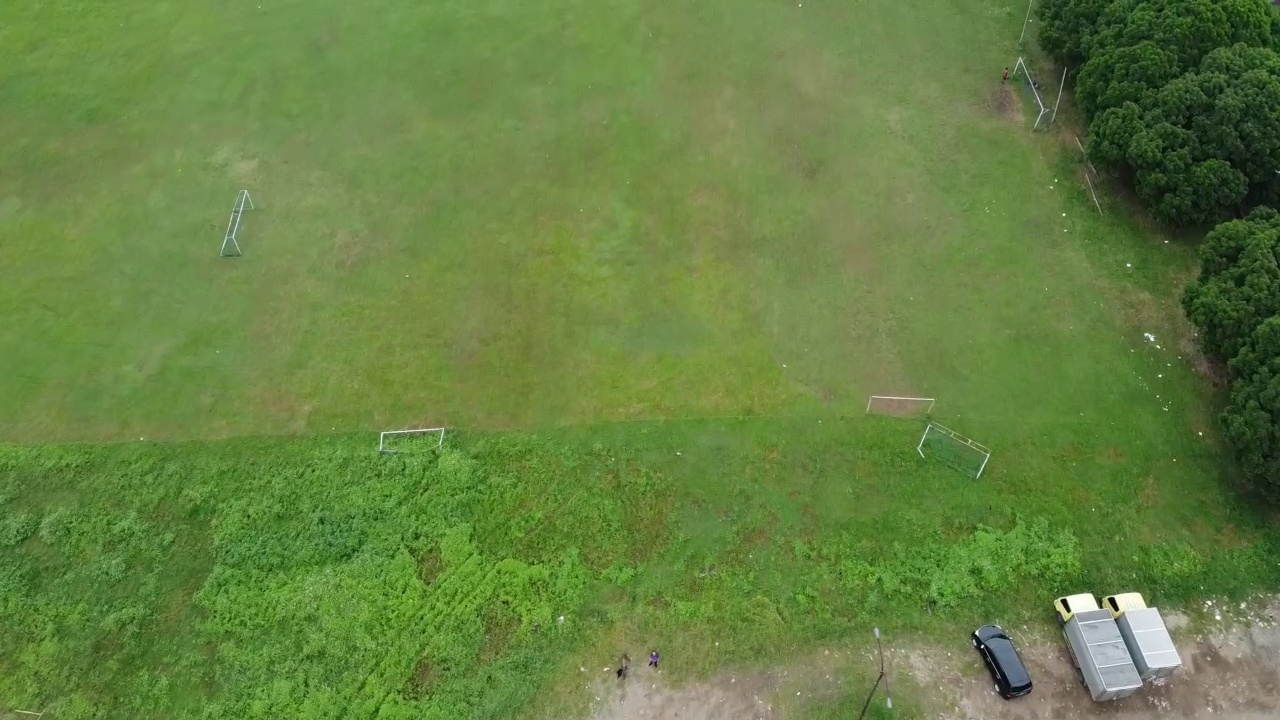mobil: (966, 620, 1039, 698)
